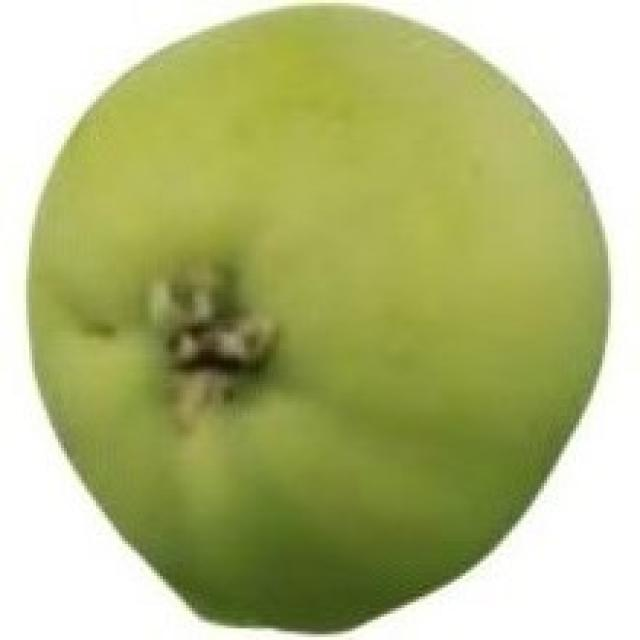50-_ripeness: (32, 4, 615, 632)
